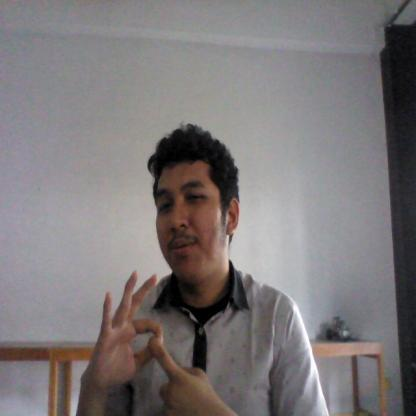Q: (96, 270, 206, 416)
